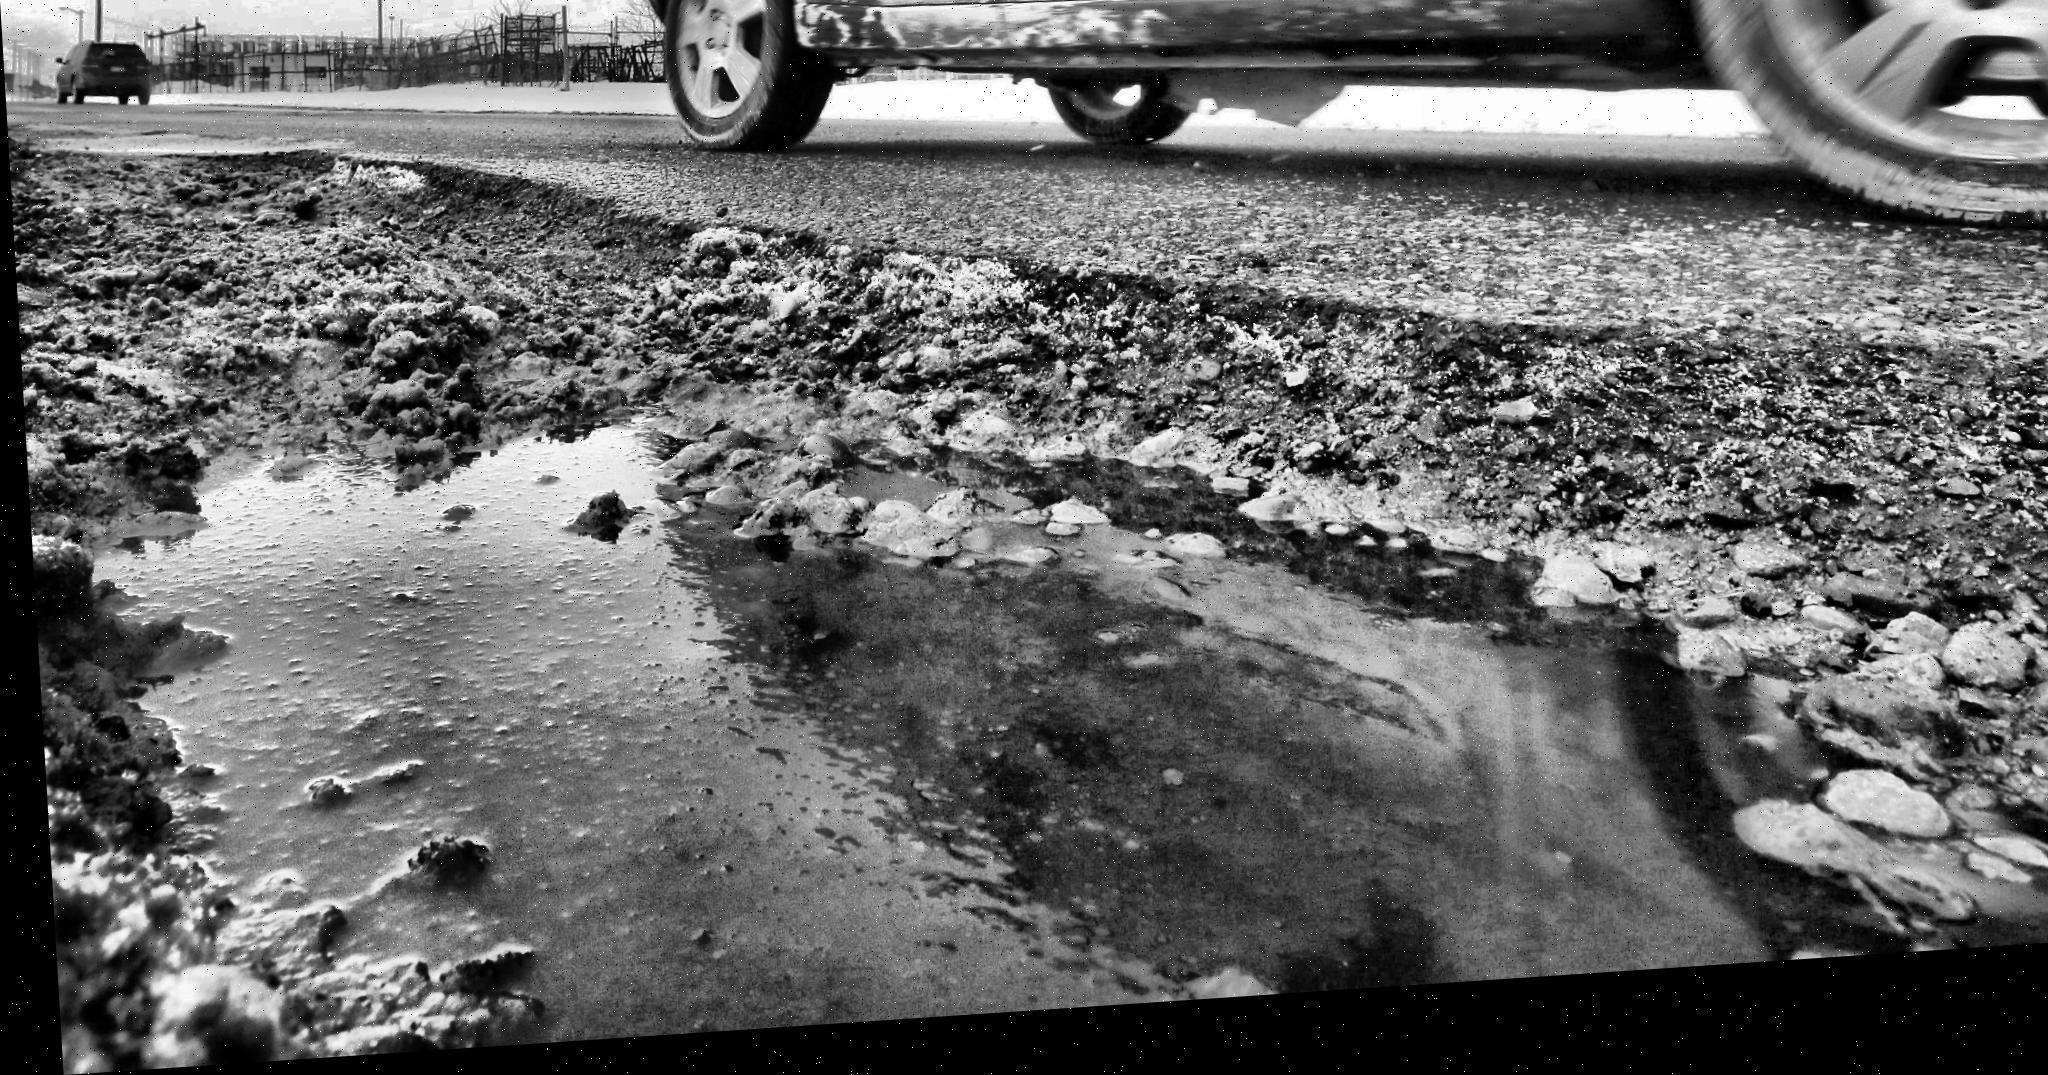pothole: (60, 245, 1965, 1072)
